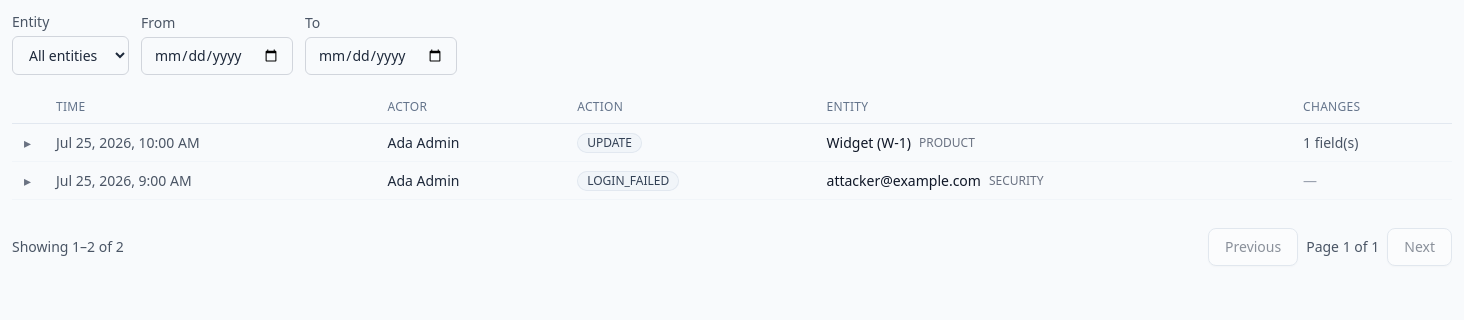
Test: AuditTrailTab (F7) › expands a row to reveal the before/after diff (accessible toggle)
Click the button named "Expand row". click: (28, 142)
box: [20,132,35,152]
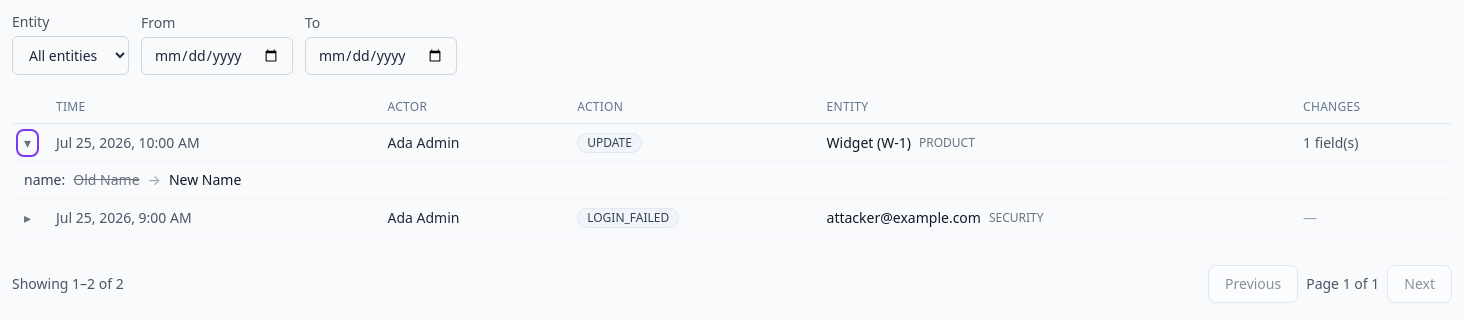
Result: the button named "Collapse row" is expanded at [20,132,35,152]
Result: the text "Old Name" is shown at [73,170,140,190]
Result: the text "New Name" is shown at [169,170,241,190]
